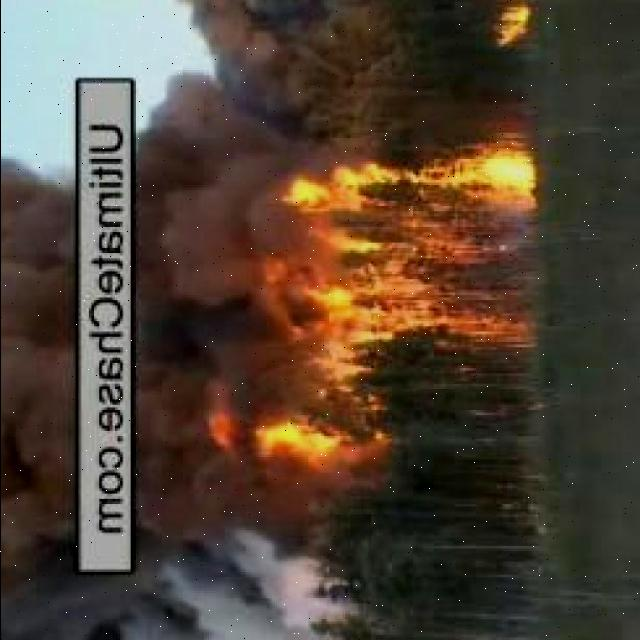fire: (266, 134, 534, 354), (195, 409, 389, 480), (495, 0, 537, 60)
